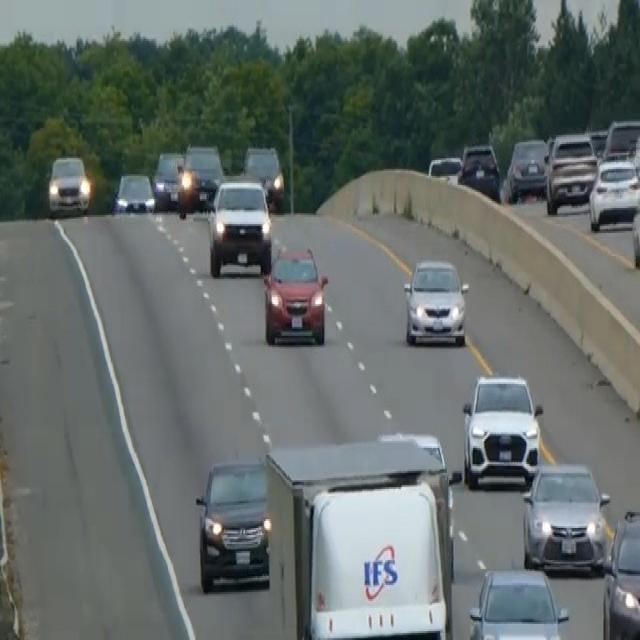car: (390, 231, 481, 366), (194, 455, 270, 594), (521, 459, 610, 574), (461, 371, 543, 489), (467, 564, 569, 638), (262, 242, 328, 345), (403, 256, 469, 347), (602, 507, 639, 638), (545, 130, 598, 213), (588, 155, 639, 231), (176, 142, 223, 219), (505, 135, 548, 203), (47, 153, 91, 217), (242, 142, 284, 208), (457, 140, 501, 201), (152, 149, 184, 210), (112, 171, 155, 215), (603, 116, 639, 162), (427, 153, 462, 179), (587, 126, 608, 160), (631, 190, 639, 268), (632, 126, 639, 183)
jeep: (206, 175, 273, 278)
lorry: (263, 430, 457, 638)
